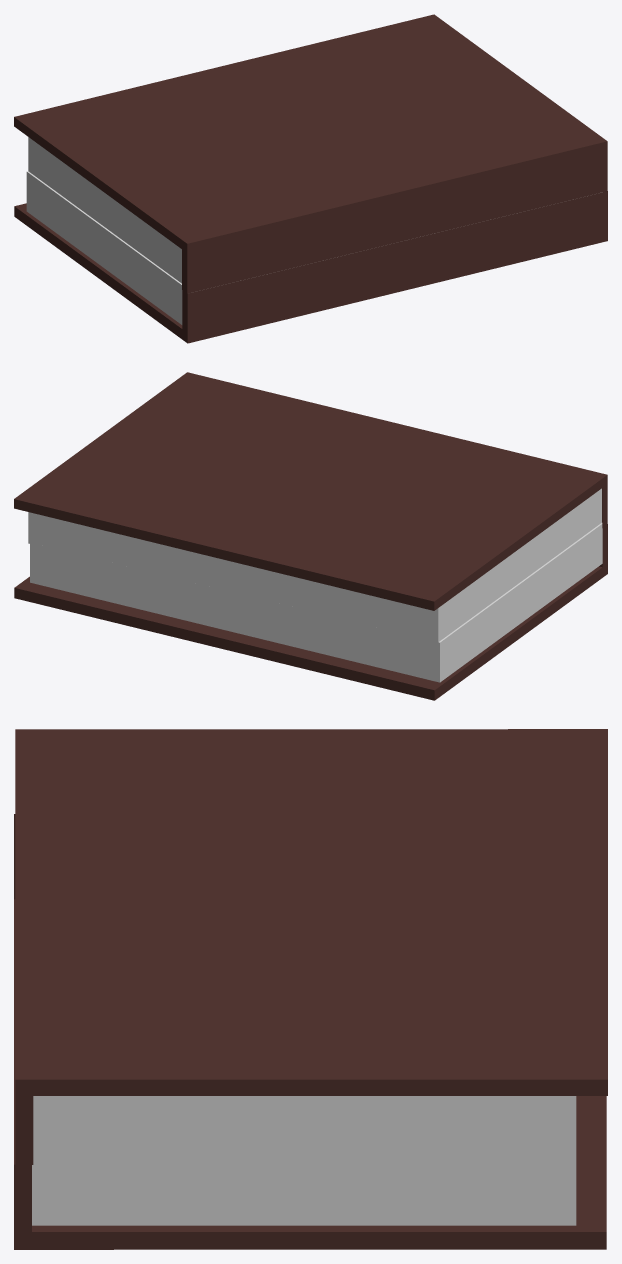
File: OpenBook(1).fbx
3 renders of one model, top to bottom at view 1: azimuth 30°, elevation 25°; view 2: azimuth 150°, elevation 25°; view 3: azimuth 270°, elevation 25°, orthographic. The views are drawn at different scales.
Visible parts, largest first — view 1: Plane.002, Plane.003, Cube.003, Cube.002; view 2: Plane.002, Cube.003, Cube.002, Plane.003; view 3: Plane.002, Cube.003, Cube.002, Plane.003.
Boxes of the visible parts, x1,y1,x2,y2 form: Plane.002: (14,14,607,293); Plane.003: (14,191,607,343); Cube.003: (26,171,587,324); Cube.002: (28,137,181,283); Plane.002: (14,372,607,610); Cube.003: (30,523,602,682); Cube.002: (28,488,601,642); Plane.003: (14,524,607,700); Plane.002: (15,729,607,1164); Cube.003: (32,1161,576,1225); Cube.002: (33,1096,576,1160); Plane.003: (14,814,606,1249).
Bounding box in the file's own units: 200 × 45.24 × 143.
